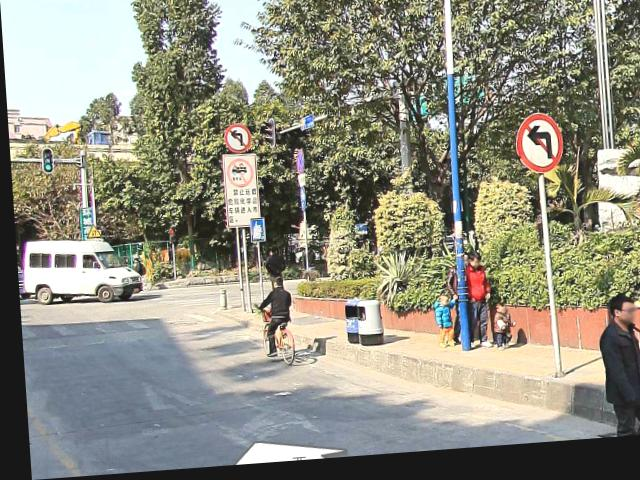not_turn_left: (514, 121, 564, 181), (218, 124, 252, 159)
